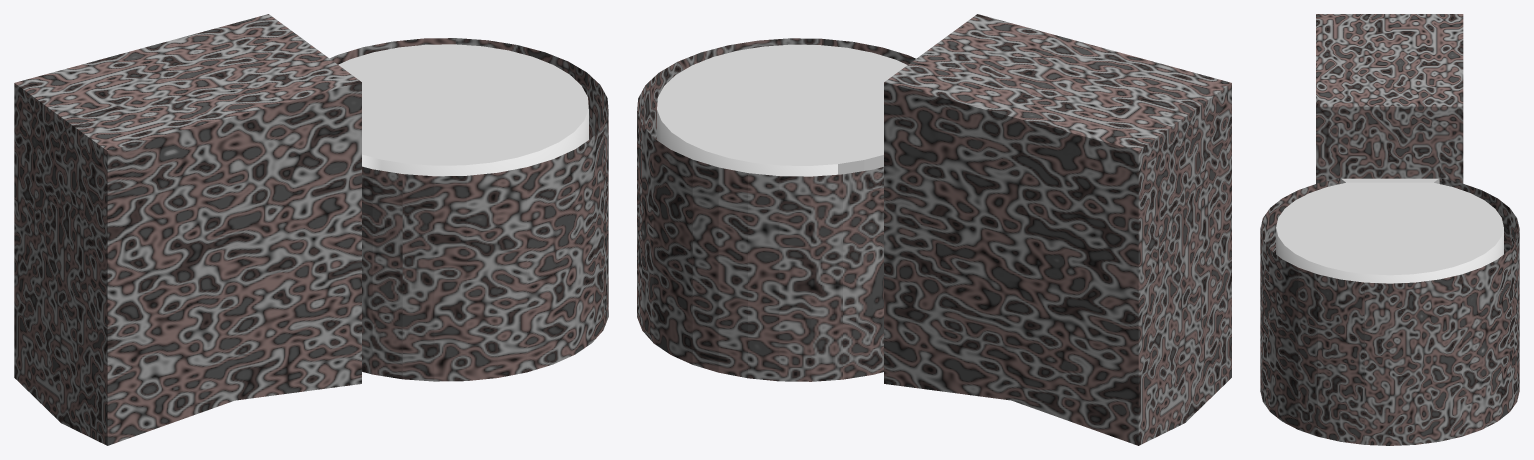
File: cave_security_room.fbx
The picture shows the model from 3 angles, left to right: view 1: azimuth 30°, elevation 25°; view 2: azimuth 150°, elevation 25°; view 3: azimuth 270°, elevation 25°; orthographic projection. The views are drawn at different scales.
Parts seen in each view (by area): view 1: Cube.004; view 2: Cube.004; view 3: Cube.004.
Boxes of the visible parts, x1=… form: Cube.004: x1=14, y1=14, x2=608, y2=445; Cube.004: x1=637, y1=14, x2=1231, y2=445; Cube.004: x1=1260, y1=14, x2=1519, y2=445.
Bounding box in the file's own units: 774 × 440 × 418.
3 materials, 1 textured.
